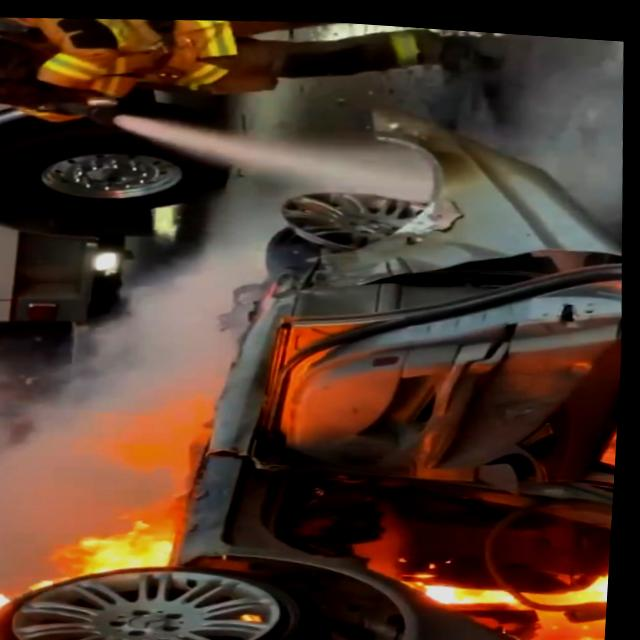fire: (0, 488, 188, 640), (576, 595, 614, 640)
smoke: (0, 260, 242, 455)
